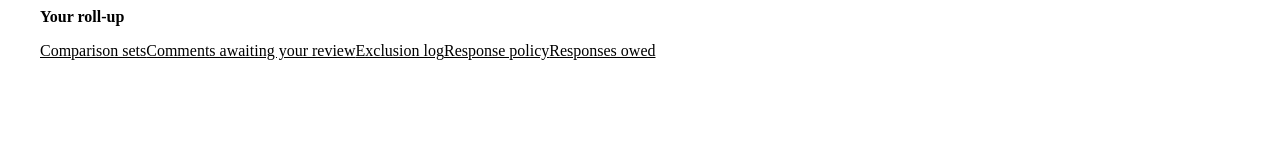
Test: the leadership landing › links to the exclusion log, and following the link opens it
The image size is (1280, 160).
Click the link "Exclusion log": (400, 50) [356,42,444,59]
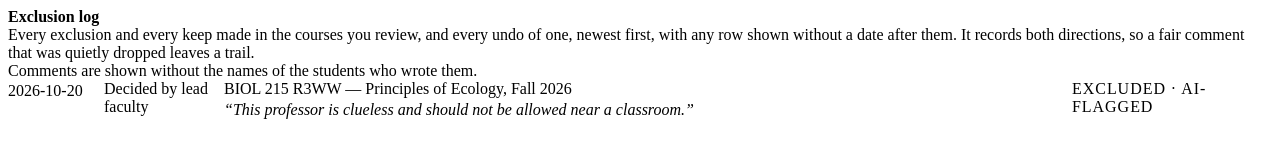
Check: the list with test id "pulse-leadership-exclusion-log-list" is shown, box [8,80,1272,122]
